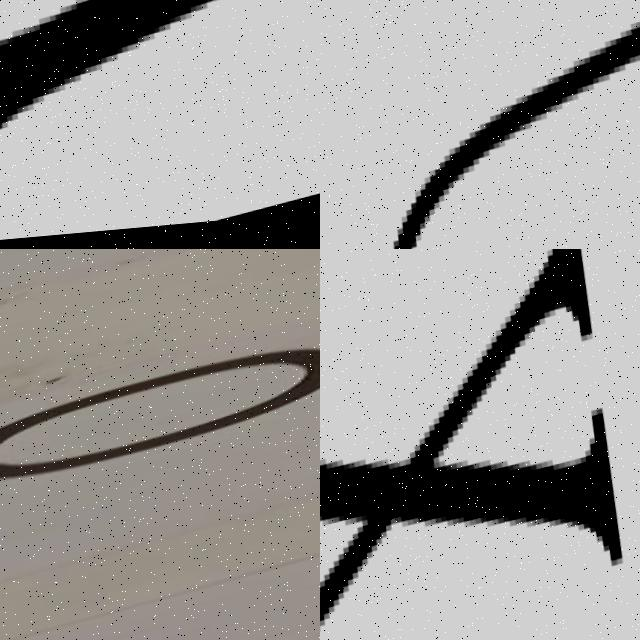0: (0, 327, 320, 507)
R: (0, 0, 320, 223)
U: (320, 0, 640, 249)
X: (320, 249, 640, 640)
